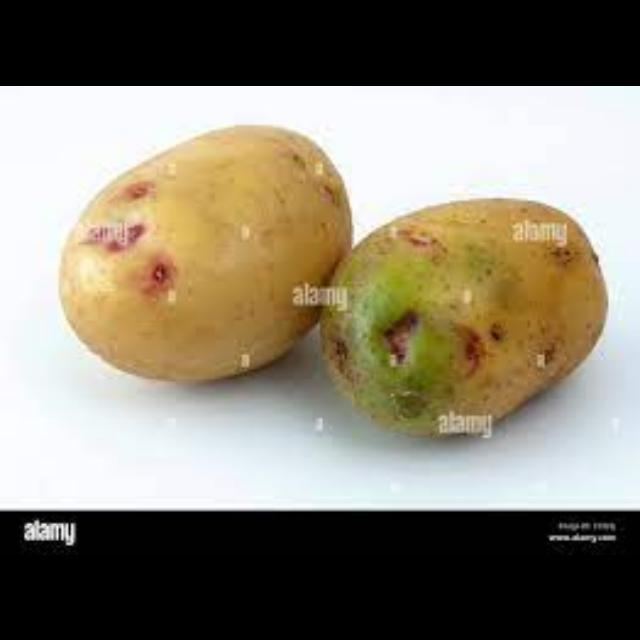Defected potato: (315, 190, 607, 436)
Diseased-fungal potato: (46, 122, 364, 394)
